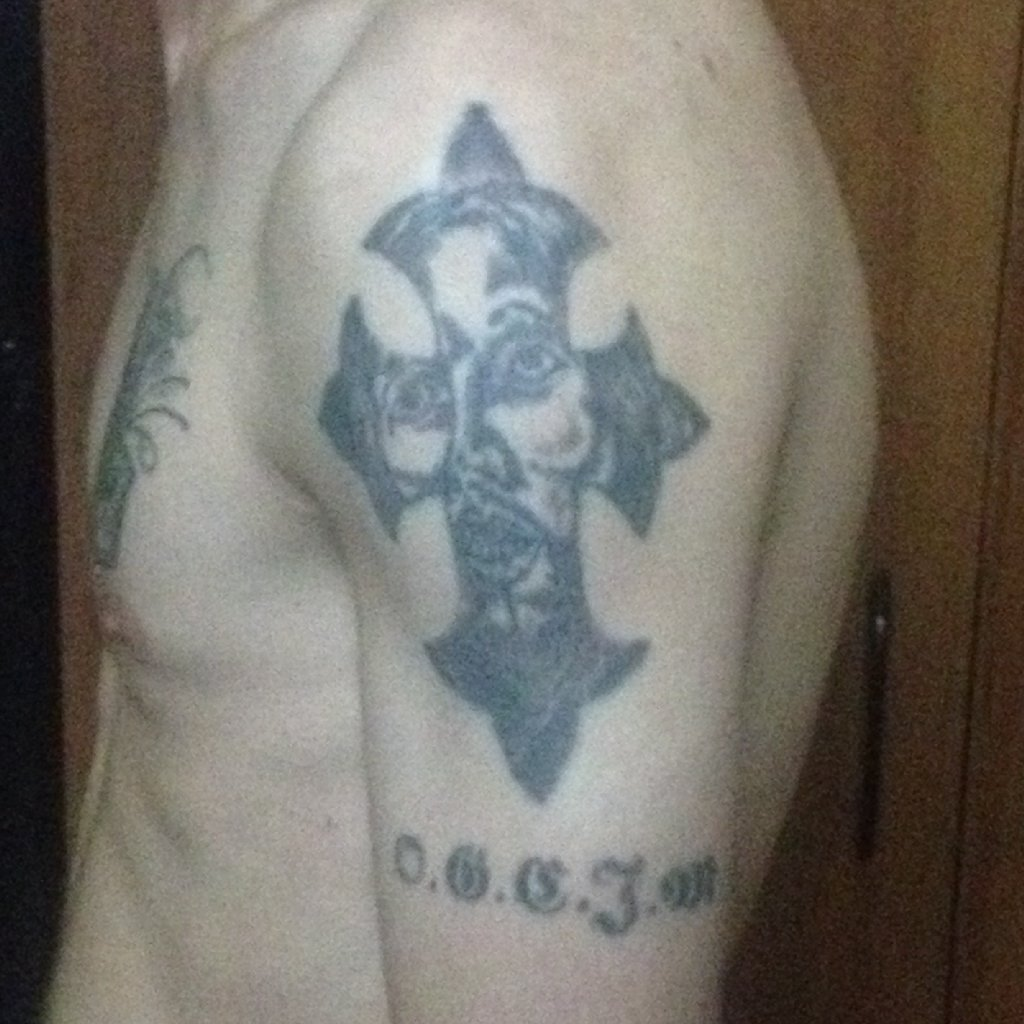tatu9_krest: (307, 89, 731, 817)
